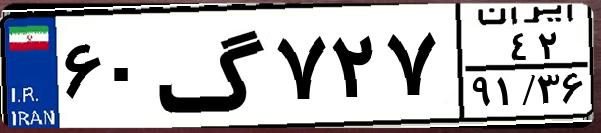0: (110, 28, 156, 98)
1: (495, 70, 520, 125)
2: (330, 28, 385, 110), (537, 27, 568, 80)
3: (535, 70, 560, 125)
4: (508, 27, 537, 80)
6: (57, 26, 110, 100), (560, 70, 590, 125)
7: (270, 28, 330, 110), (385, 28, 445, 110)
9: (470, 70, 495, 125)
گ: (156, 12, 270, 120)
